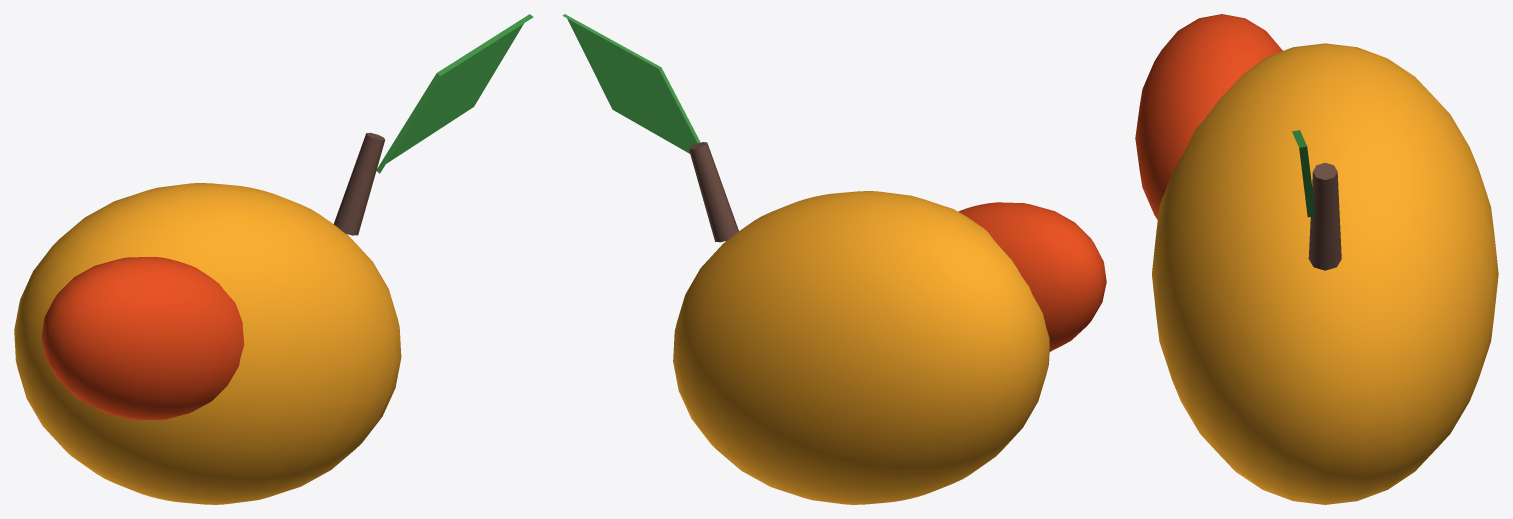
File: mango.glb
The picture shows the model from 3 angles, left to right: view 1: azimuth 30°, elevation 25°; view 2: azimuth 150°, elevation 25°; view 3: azimuth 270°, elevation 25°; orthographic projection. The views are drawn at different scales.
Parts seen in each view (by area): view 1: mango; view 2: mango; view 3: mango.
Boxes of the visible parts, box(x1,y1,x2,y2) form: mango: box(14, 14, 533, 504); mango: box(562, 14, 1106, 504); mango: box(1135, 14, 1498, 504).
Size of the model in its own units: 1.76 by 1.34 by 0.88.
